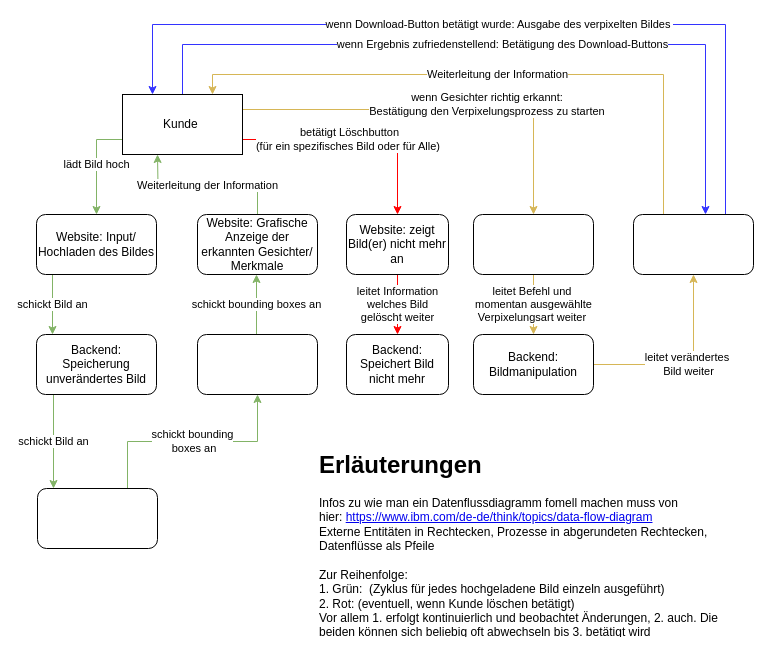
This 771x656 diagram has some shape labels left out. Here are the shapes that lost their labels. From the top down, the centre of each, then its label:
point (533, 244): Website: Button für "Verpixelung starten" wird gedrückt
point (693, 244): Website: Anzeige des verpixelten Bildes
point (257, 364): Backend: Weiterleitung bounding boxes
point (97, 518): API: führt Gesichtserkennung durch
